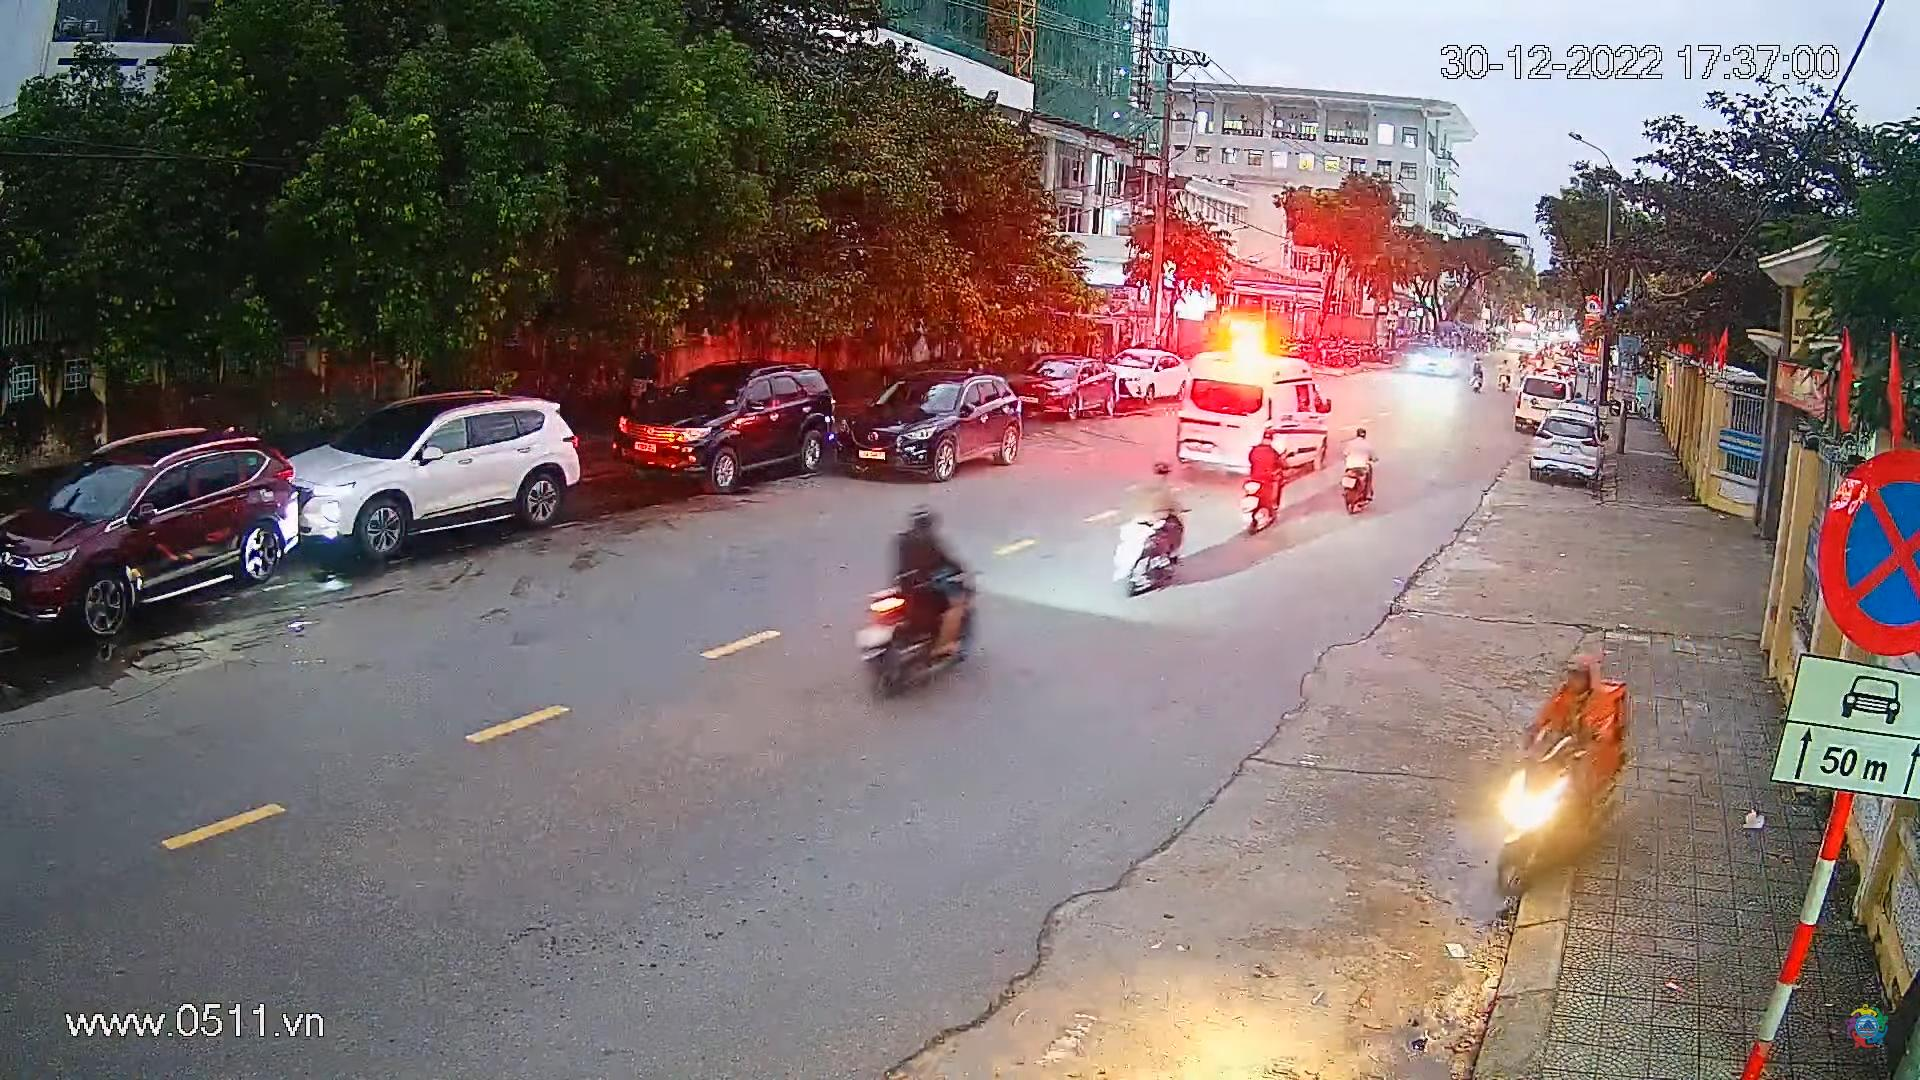ambulance: (1168, 336, 1344, 481)
